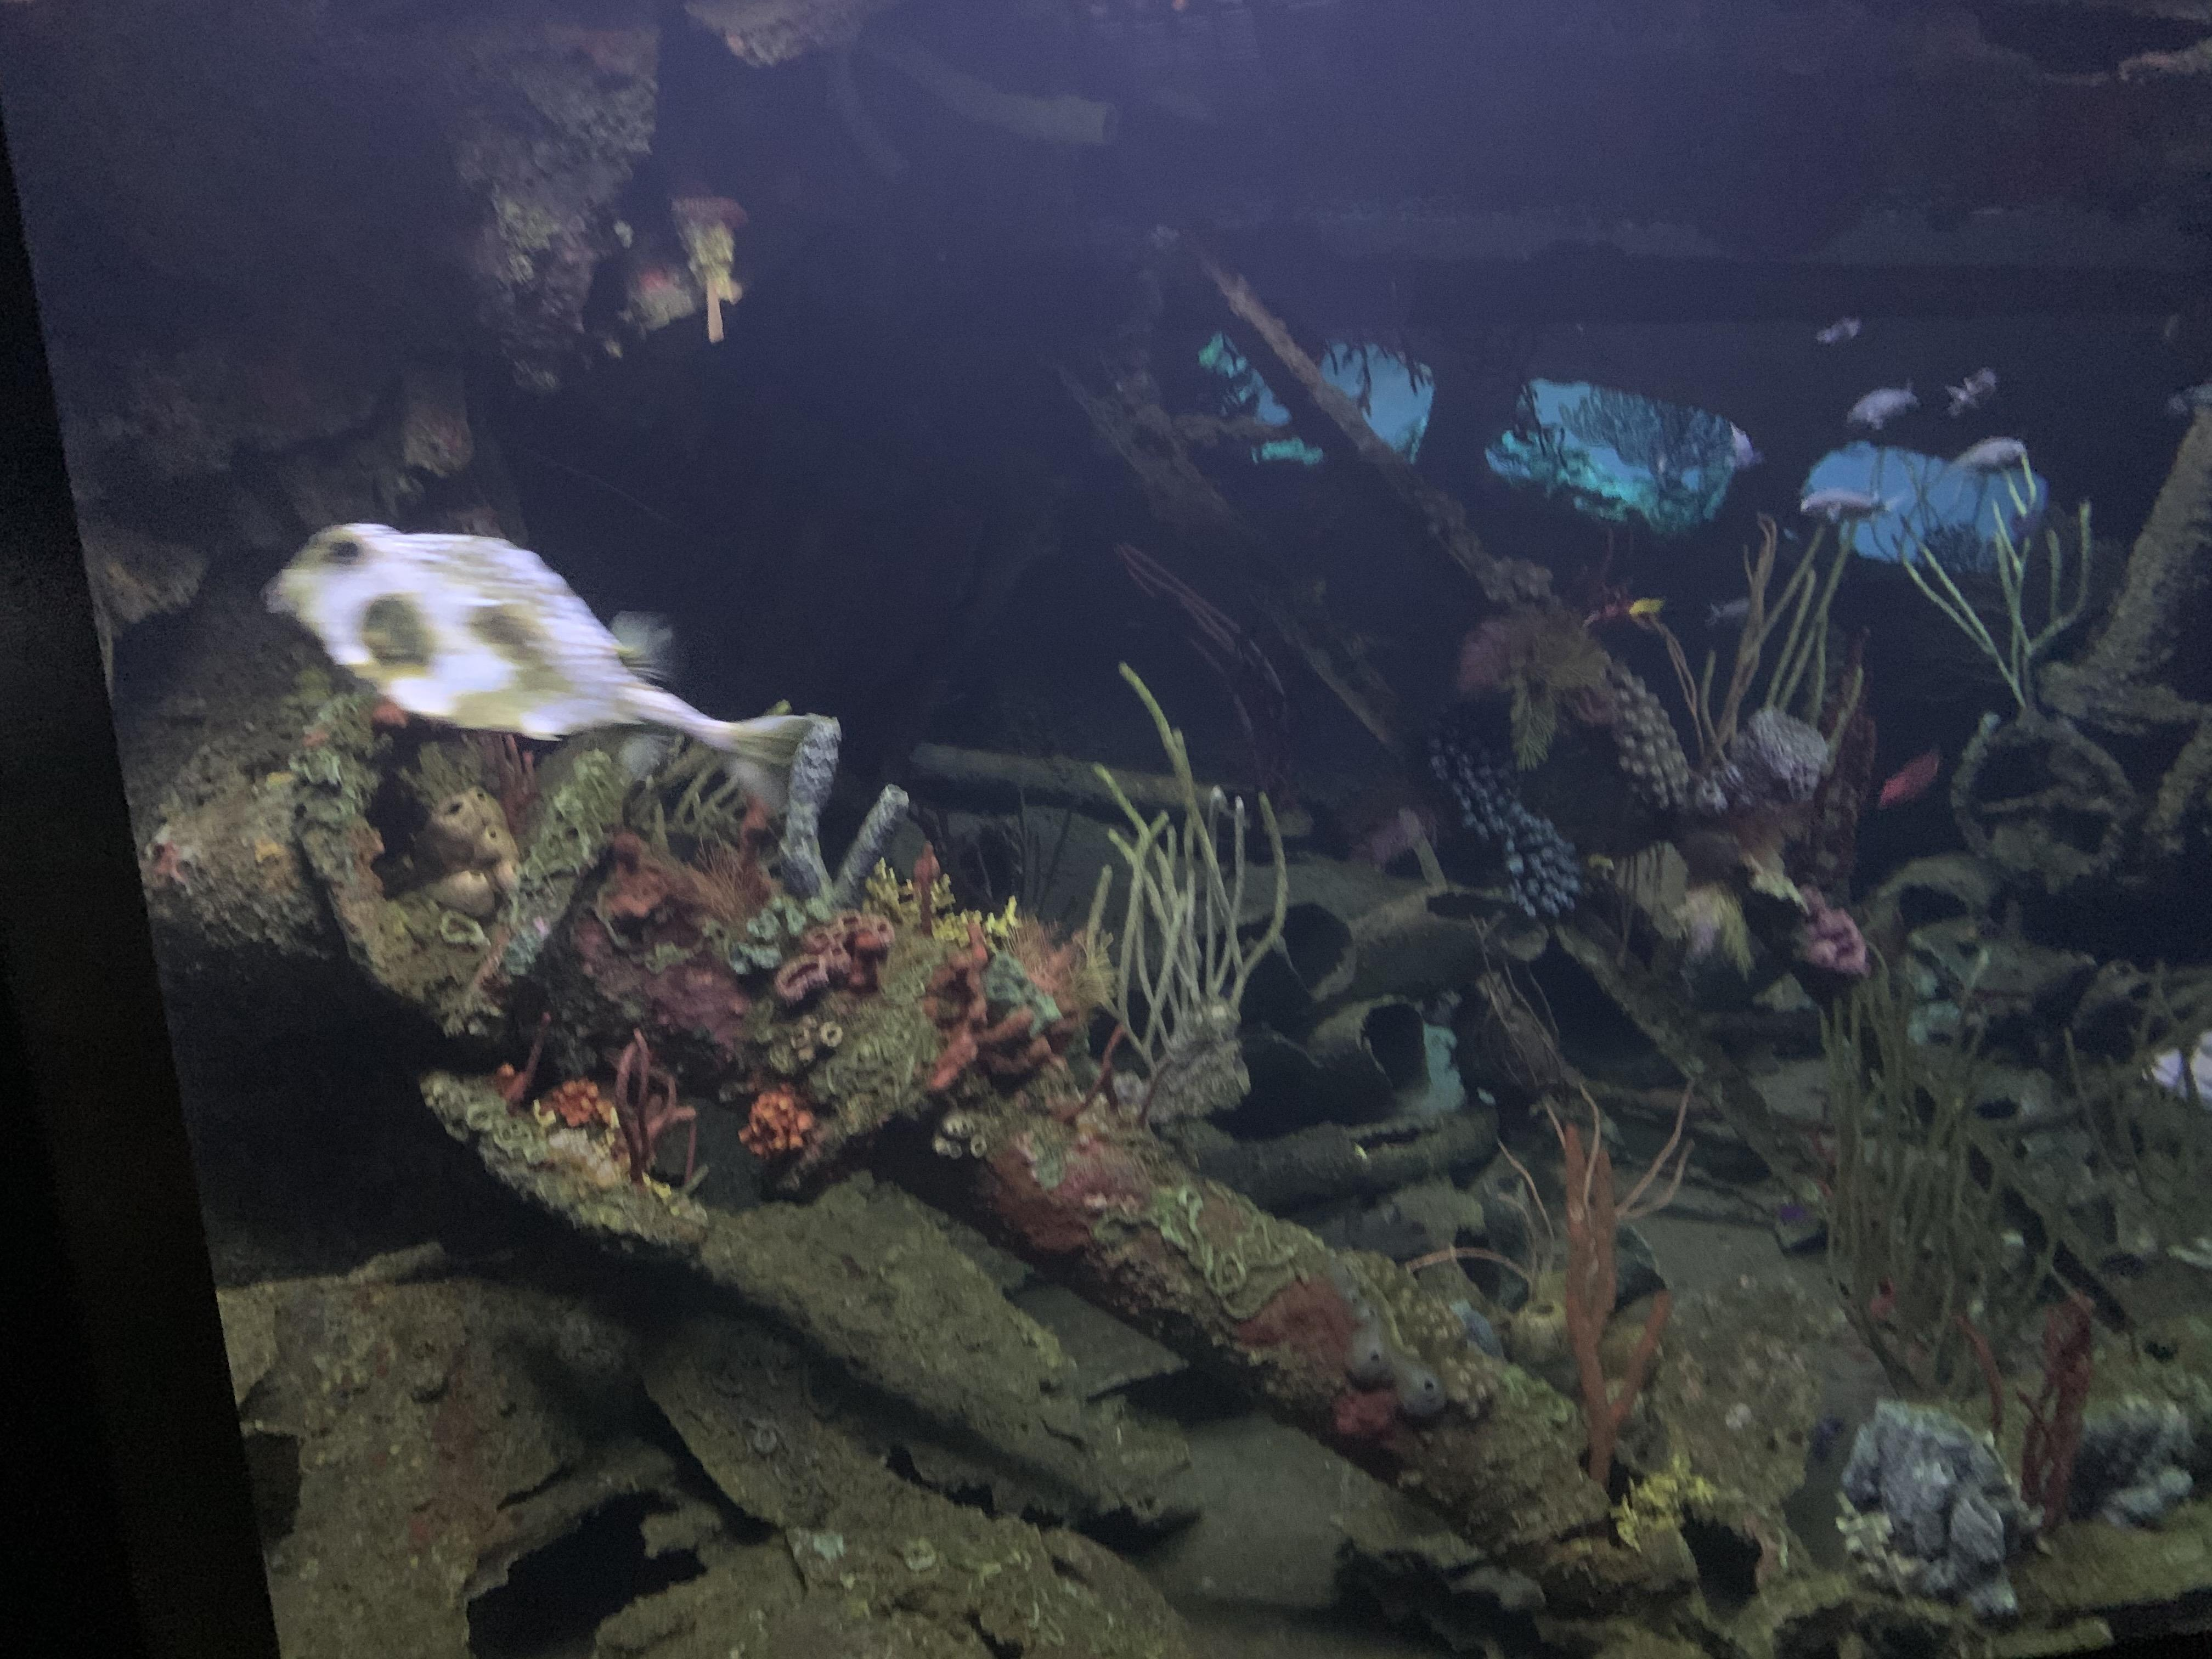fish: (256, 514, 841, 842), (1850, 378, 1921, 437), (1799, 488, 1898, 528), (1951, 437, 2027, 481), (1944, 366, 2008, 415), (1817, 315, 1867, 347)
